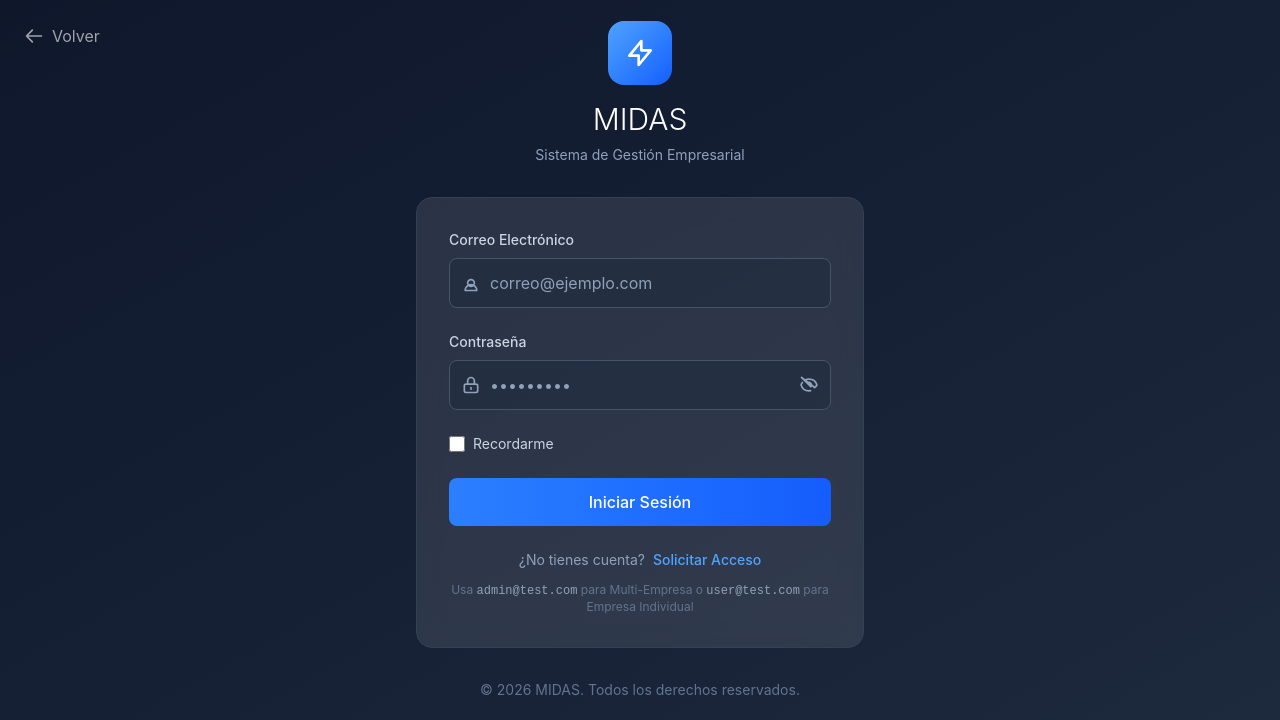
Test: Login Flow › should show error for empty credentials
Note: Click login without entering credentials
Click the button "Iniciar Sesión" at (640, 502), box [449,478,831,526]
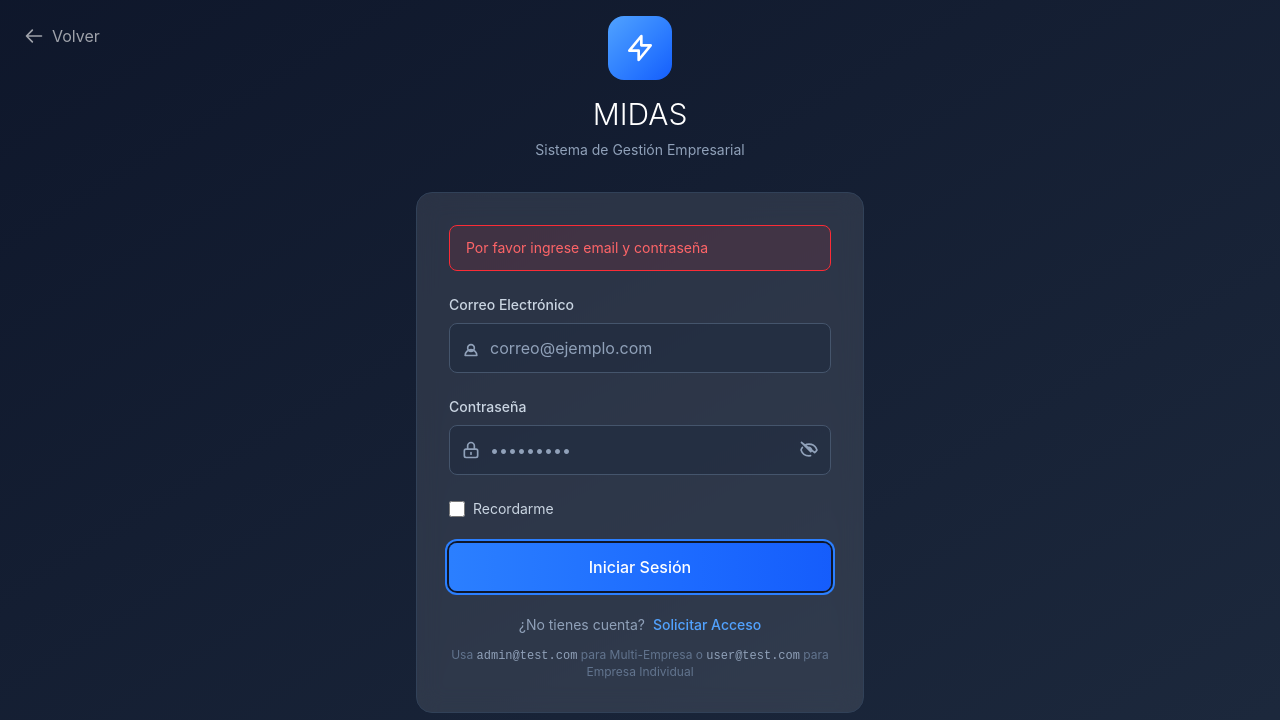
Check: the text "Por favor ingrese email y contraseña" is shown, box [466,239,708,256]
